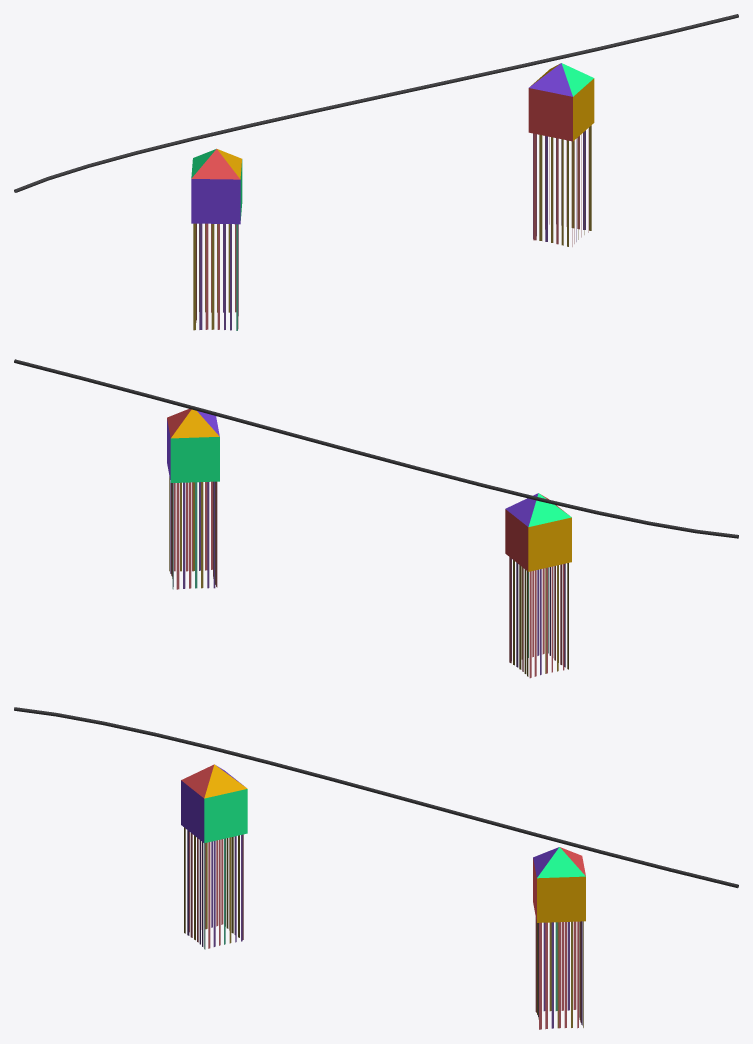
File: hangingdecoration.fbx
3 renders of one model, top to bottom at view 1: azimuth 30°, elevation 25°; view 2: azimuth 150°, elevation 25°; view 3: azimuth 330°, elevation 25°, orthographic.
Parts seen in each view (by area): view 1: Cube, Plane, Cube.001, BezierCurve, Plane.001; view 2: Plane.001, Plane, Cube.001, Cube, BezierCurve; view 3: Plane.001, Plane, Cube.001, Cube, BezierCurve.
Boxes of the visible parts, <box> form: Cube: <box>528,63,594,141</box>; Plane: <box>533,125,591,246</box>; Cube.001: <box>191,148,242,224</box>; BezierCurve: <box>14,14,738,192</box>; Plane.001: <box>193,223,238,330</box>; Plane.001: <box>509,557,568,678</box>; Plane: <box>169,476,217,589</box>; Cube.001: <box>505,493,571,571</box>; Cube: <box>167,409,219,482</box>; BezierCurve: <box>14,359,738,538</box>; Plane.001: <box>184,827,243,949</box>; Plane: <box>535,917,583,1029</box>; Cube.001: <box>181,764,247,843</box>; Cube: <box>533,847,585,922</box>; BezierCurve: <box>14,707,738,888</box>.
Size of the model in its own units: 901 by 214 by 73.87.
